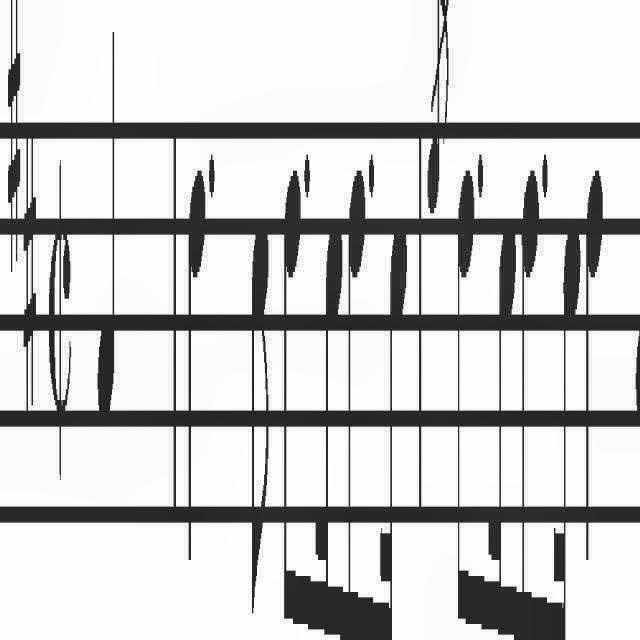Diez: (2, 0, 24, 276), (22, 86, 38, 406)
Eighth-note: (246, 188, 274, 640), (277, 133, 301, 634), (346, 144, 366, 640), (454, 154, 474, 640), (519, 154, 539, 640)
Quarter-note: (90, 31, 122, 465), (184, 123, 208, 554), (584, 130, 604, 564), (632, 4, 640, 463)
Sixteenth-note: (378, 196, 414, 640), (312, 186, 340, 640), (551, 196, 579, 640), (488, 202, 516, 640)
